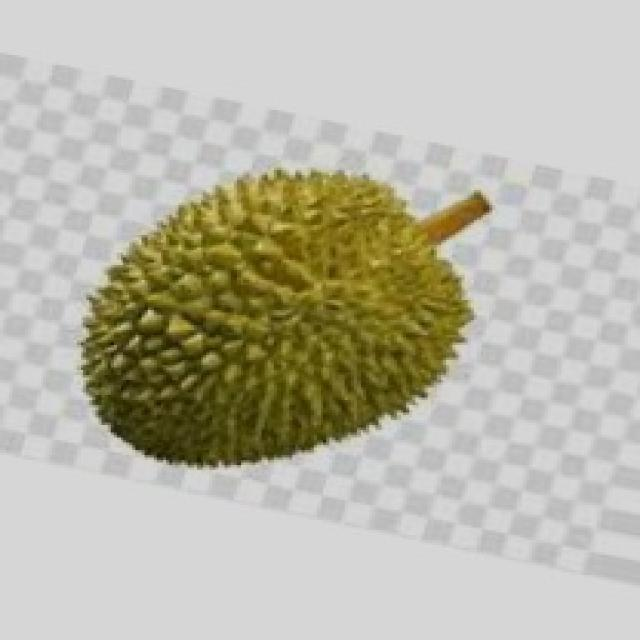fruit: (37, 127, 458, 515)
